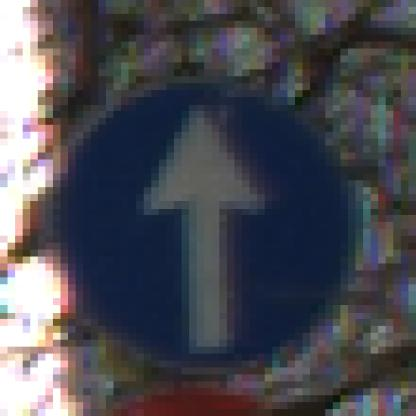AheadOnly: (39, 43, 379, 382)
